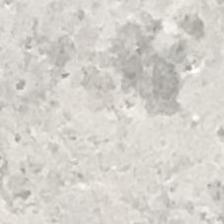Non_Crack: (16, 31, 204, 186)
